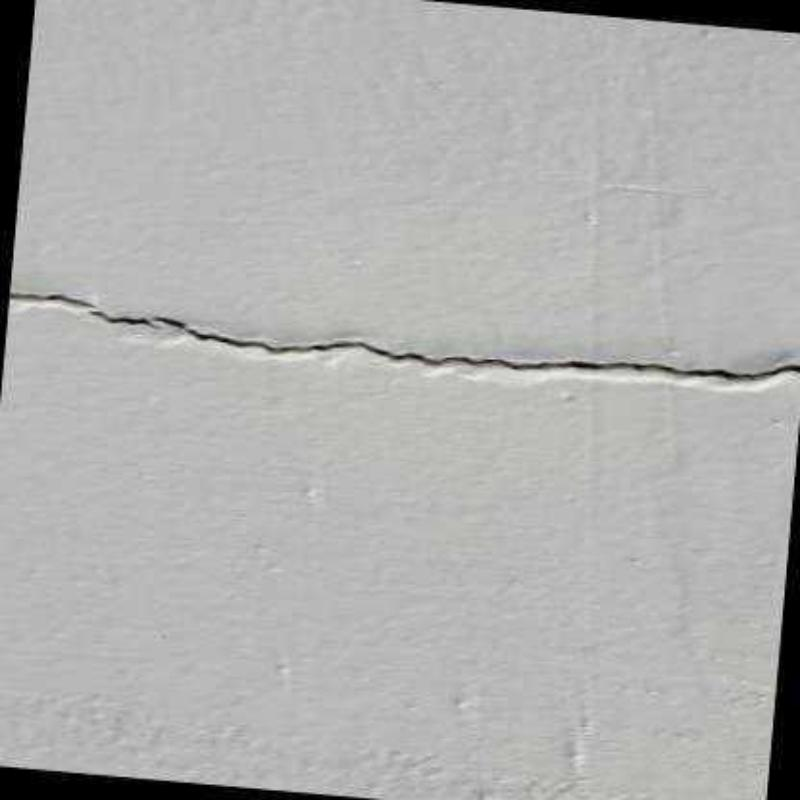crack: (7, 287, 800, 386)
